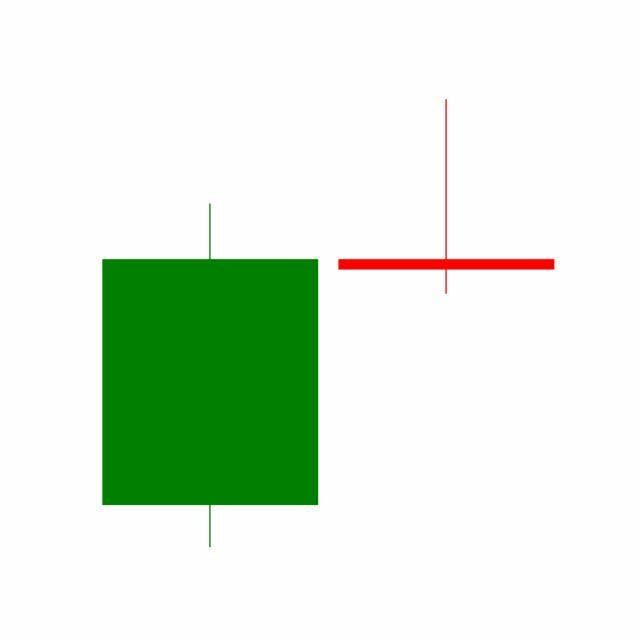Spinning Top: (328, 98, 566, 297)
